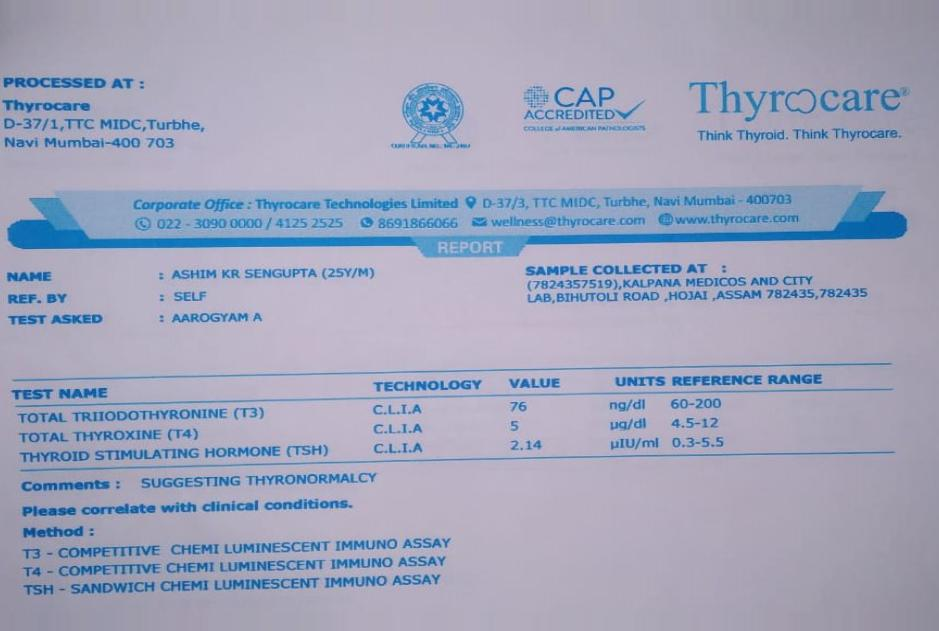Reference Range: (665, 392, 732, 456)
Test Name: (12, 401, 337, 470)
Units: (602, 392, 665, 457)
Value: (501, 393, 554, 460)
